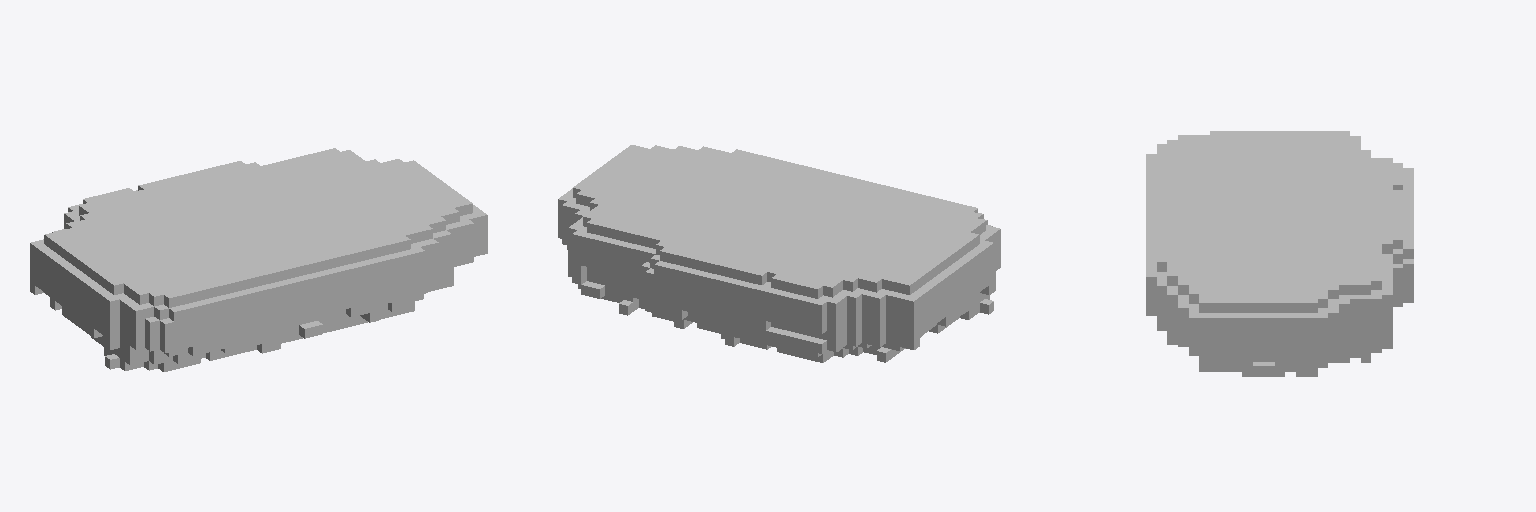
Rendered from gound20_3.obj.
The picture shows the model from 3 angles: view 1: azimuth 30°, elevation 25°; view 2: azimuth 150°, elevation 25°; view 3: azimuth 270°, elevation 25°; orthographic projection.
Visible parts, largest first — view 1: ObjObject.001; view 2: ObjObject.001; view 3: ObjObject.001.
Boxes of the visible parts, box(x1,y1,x2,y2) form: ObjObject.001: box(30, 148, 487, 371); ObjObject.001: box(558, 145, 1000, 362); ObjObject.001: box(1146, 131, 1413, 376).
Bounding box in the file's own units: 4 × 0.8 × 2.5.